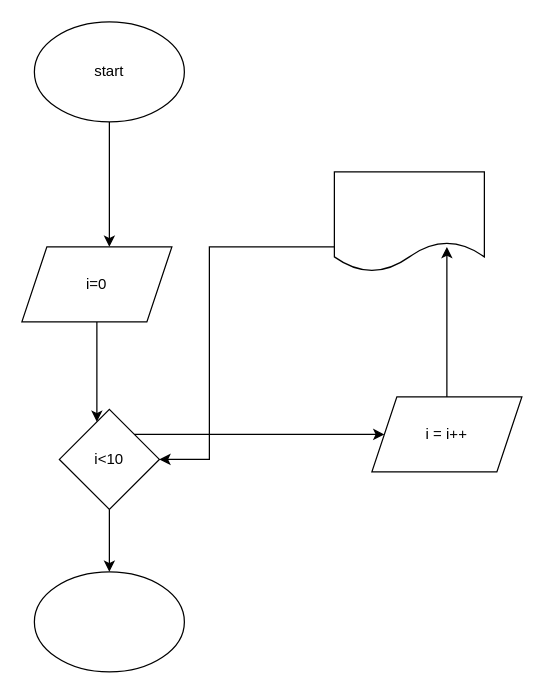
Some shapes in this 544 by 694 pixel diagram are drawn without their labels. The centre of each missing label's shape, as x and y in pixels:
end: the point at 108,621
Hello world!: the point at 408,221
